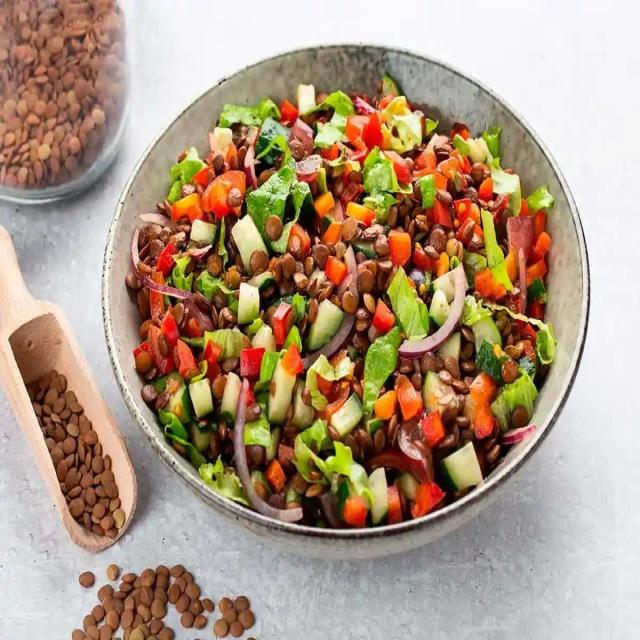lentejas: (139, 88, 546, 524)
